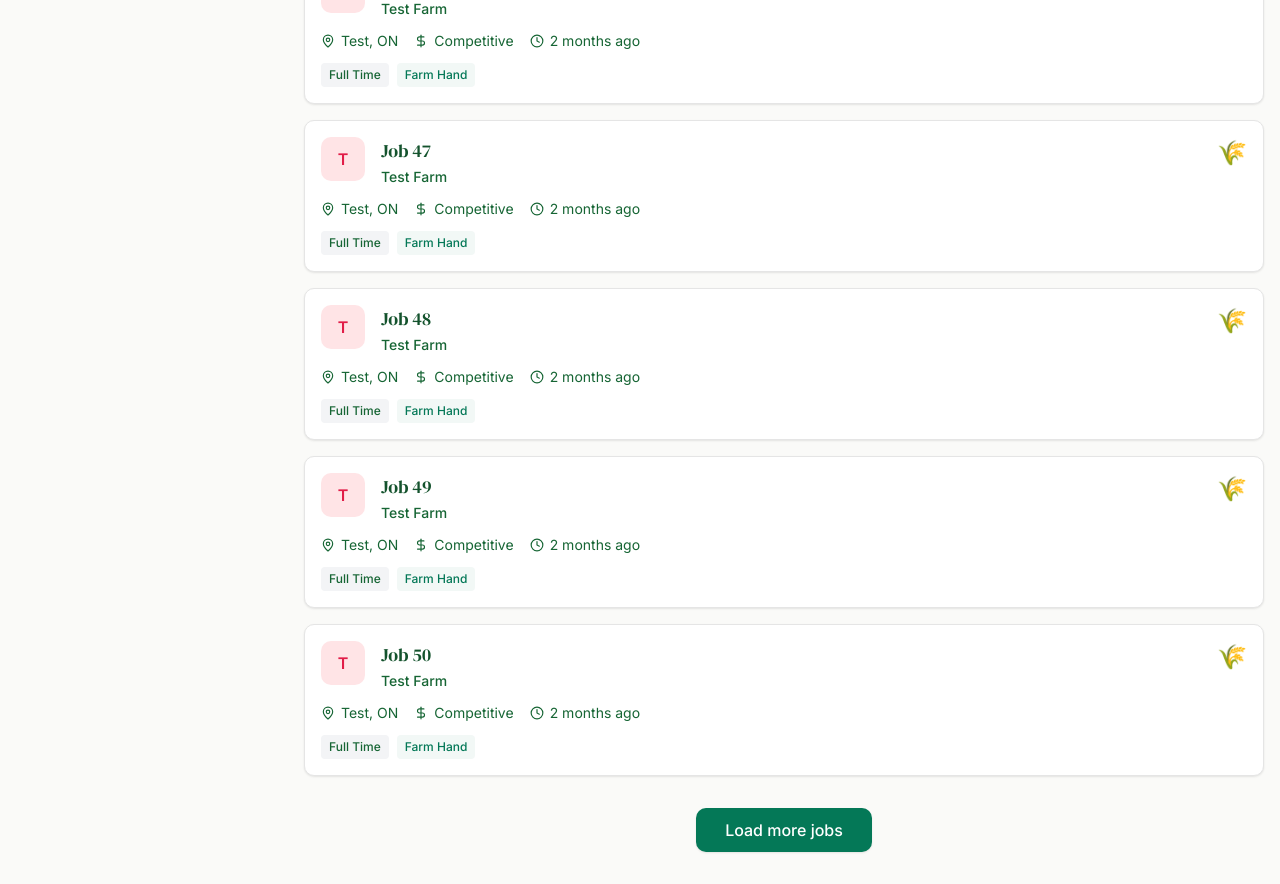
Test case: HomeClient job pagination › appends the next batch and reports the full active total
(page scrolled)
Click the button "Load more jobs" at (784, 830), box left=696, top=808, right=872, bottom=852
(page scrolled)
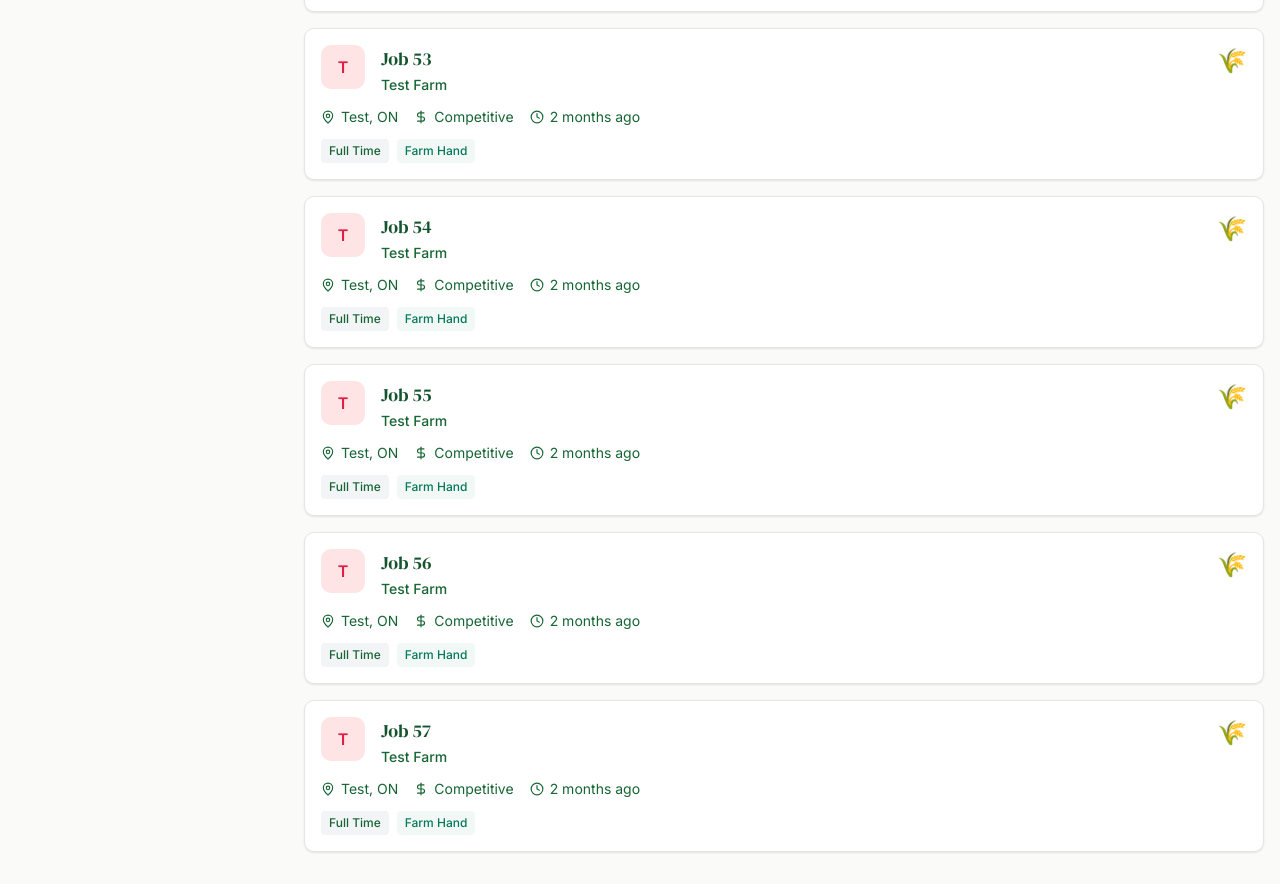
Expected: the heading "Job 57" is shown, left=381, top=718, right=431, bottom=743
Expected: the button "Load more jobs" is gone
